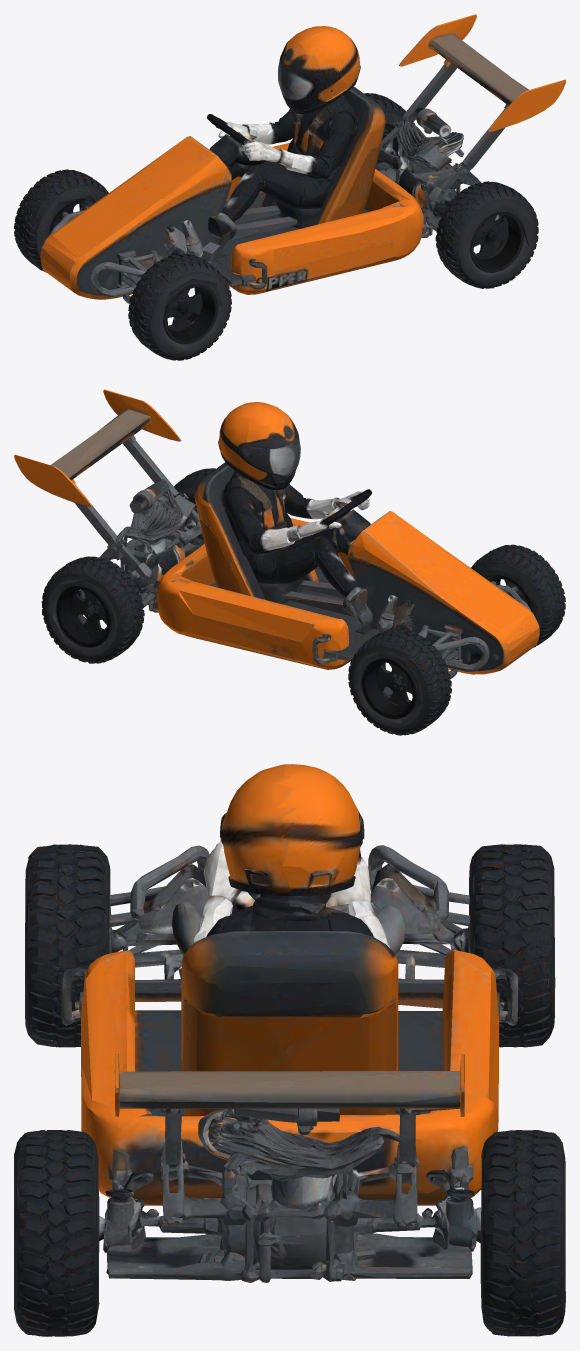
The model's file is heroKart.07989857.glb.
3 renders of one model, top to bottom at view 1: azimuth 30°, elevation 25°; view 2: azimuth 150°, elevation 25°; view 3: azimuth 270°, elevation 25°, orthographic. The views are drawn at different scales.
Visible parts, largest first — view 1: chassis_body, wheel_fr, wheel_rr; view 2: chassis_body, wheel_fl, wheel_rl; view 3: chassis_body, wheel_rl, wheel_rr, wheel_fl, wheel_fr.
Part boxes in pixels (x1,y1,x2,y2): chassis_body: (14, 14, 565, 360); wheel_fr: (386, 196, 499, 288); wheel_rr: (191, 244, 275, 342); chassis_body: (14, 389, 565, 735); wheel_fl: (82, 572, 190, 663); wheel_rl: (301, 619, 387, 717); chassis_body: (14, 764, 565, 1336); wheel_rl: (429, 890, 555, 1046); wheel_rr: (25, 892, 151, 1045); wheel_fl: (428, 1095, 565, 1299); wheel_fr: (14, 1100, 150, 1285).
Size of the model in its own units: 1.9 by 0.916 by 1.01.
1 material, 1 textured.
